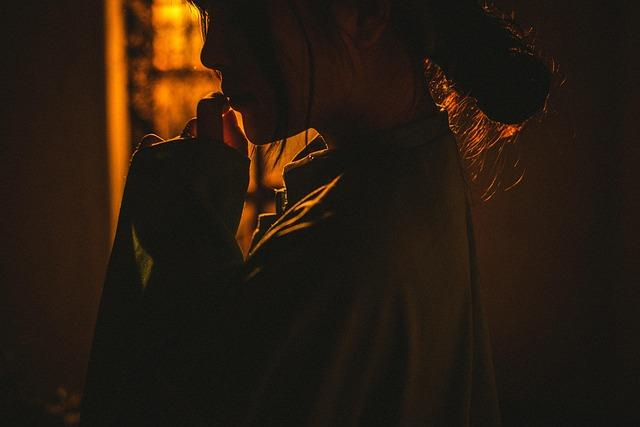Non_Gorille: (85, 0, 487, 356)
